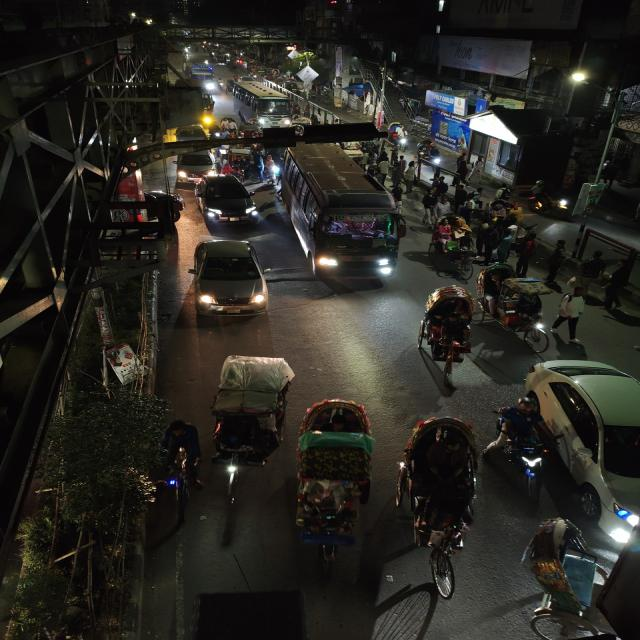bus: (281, 146, 408, 286), (231, 82, 294, 127), (189, 63, 218, 93)
car: (523, 354, 640, 554), (185, 237, 273, 319), (191, 176, 264, 224), (176, 150, 219, 182), (172, 123, 210, 141)
motorcycle: (490, 397, 553, 497), (495, 290, 551, 346)
pedestrian: (551, 292, 590, 342), (600, 258, 635, 310), (571, 251, 608, 289), (508, 239, 542, 277), (543, 242, 572, 284), (419, 190, 442, 222), (451, 182, 471, 212), (429, 174, 451, 200)
rickshaw: (394, 412, 485, 608), (515, 516, 639, 640), (288, 395, 382, 557), (204, 350, 302, 482), (414, 287, 478, 378), (431, 215, 472, 249)
